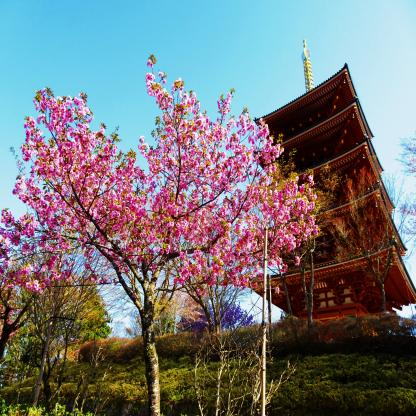YaeSakura: (0, 52, 322, 300), (396, 131, 416, 268)
